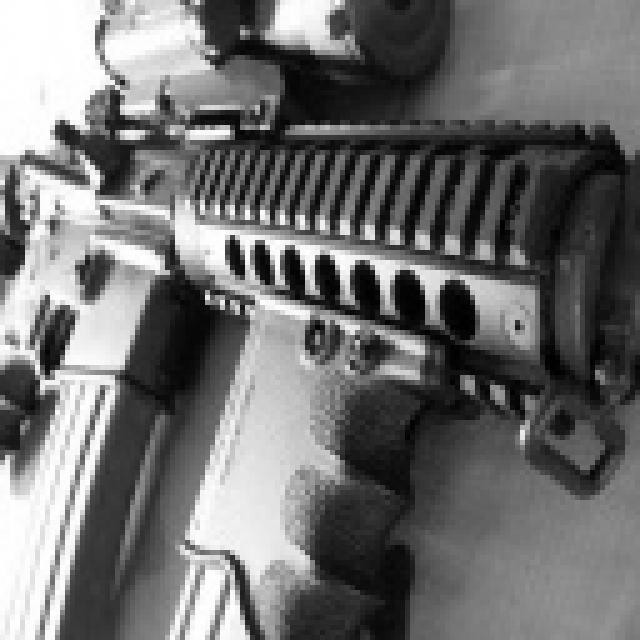Rifle: (19, 32, 640, 640)
